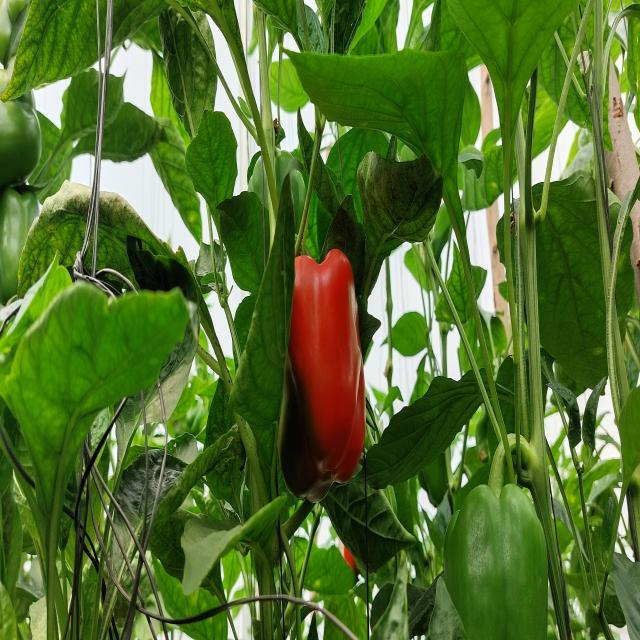Green--Not-ready-to-harvest: (449, 477, 543, 640)
Red-Ready-to-Harvest: (270, 250, 375, 490)
